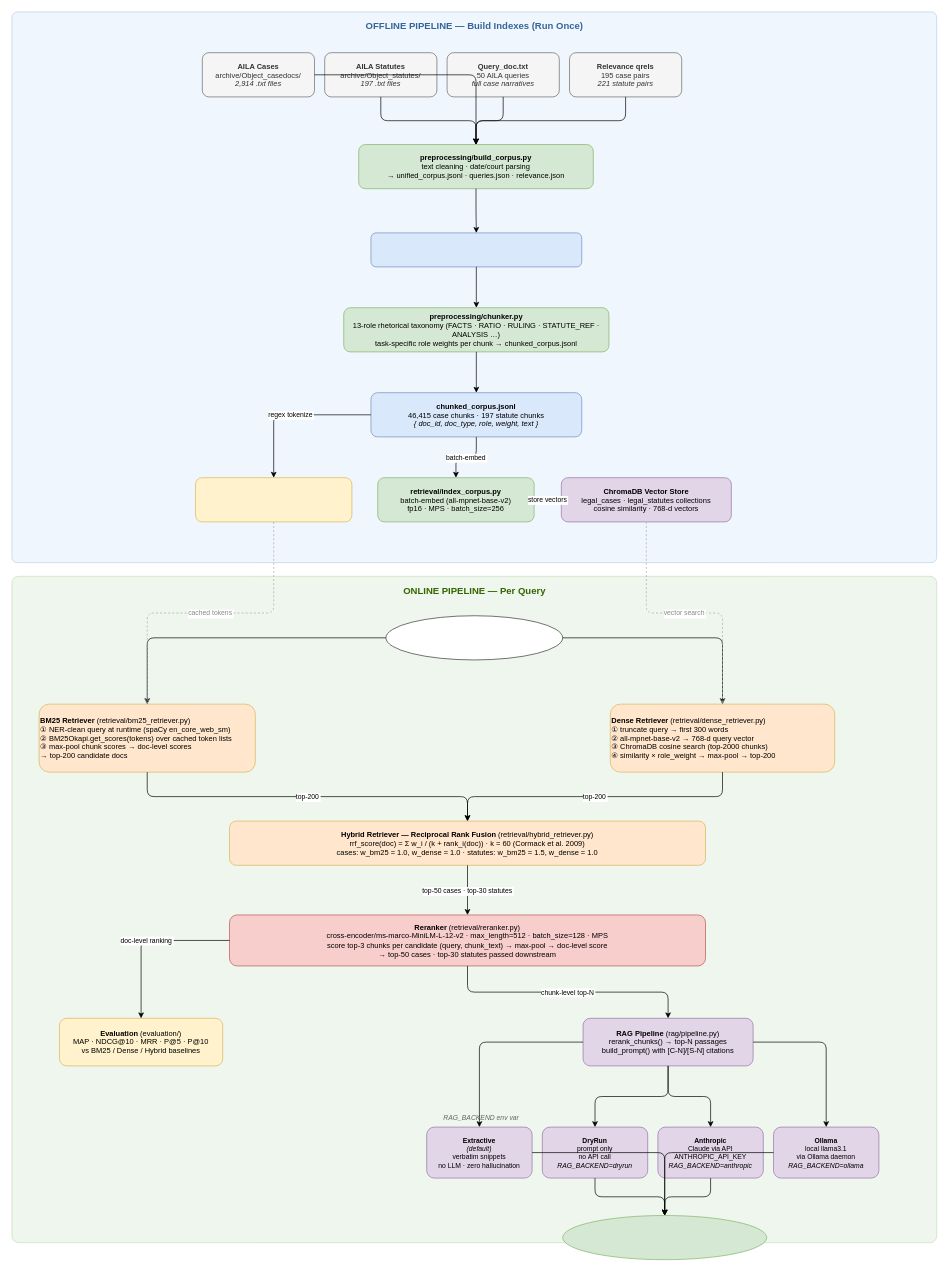
The diagram is 949 pixels wide and 1272 high, and some of its shapes have lost their labels. The centre of each missing label's shape, as x and y in pixels:
"Answer + Citations [C-1] … [S-N] · grounded in retrieved chunks" goes at point (664, 1237).
"BM25 Token Cache bm25_token_cache.pkl regex tokenized · mtime-keyed cache" goes at point (273, 499).
"unified_corpus.jsonl · queries.json · relevance.json" goes at point (476, 249).
"User Query facts of a matter (400–1,500 words)" goes at point (474, 637).
